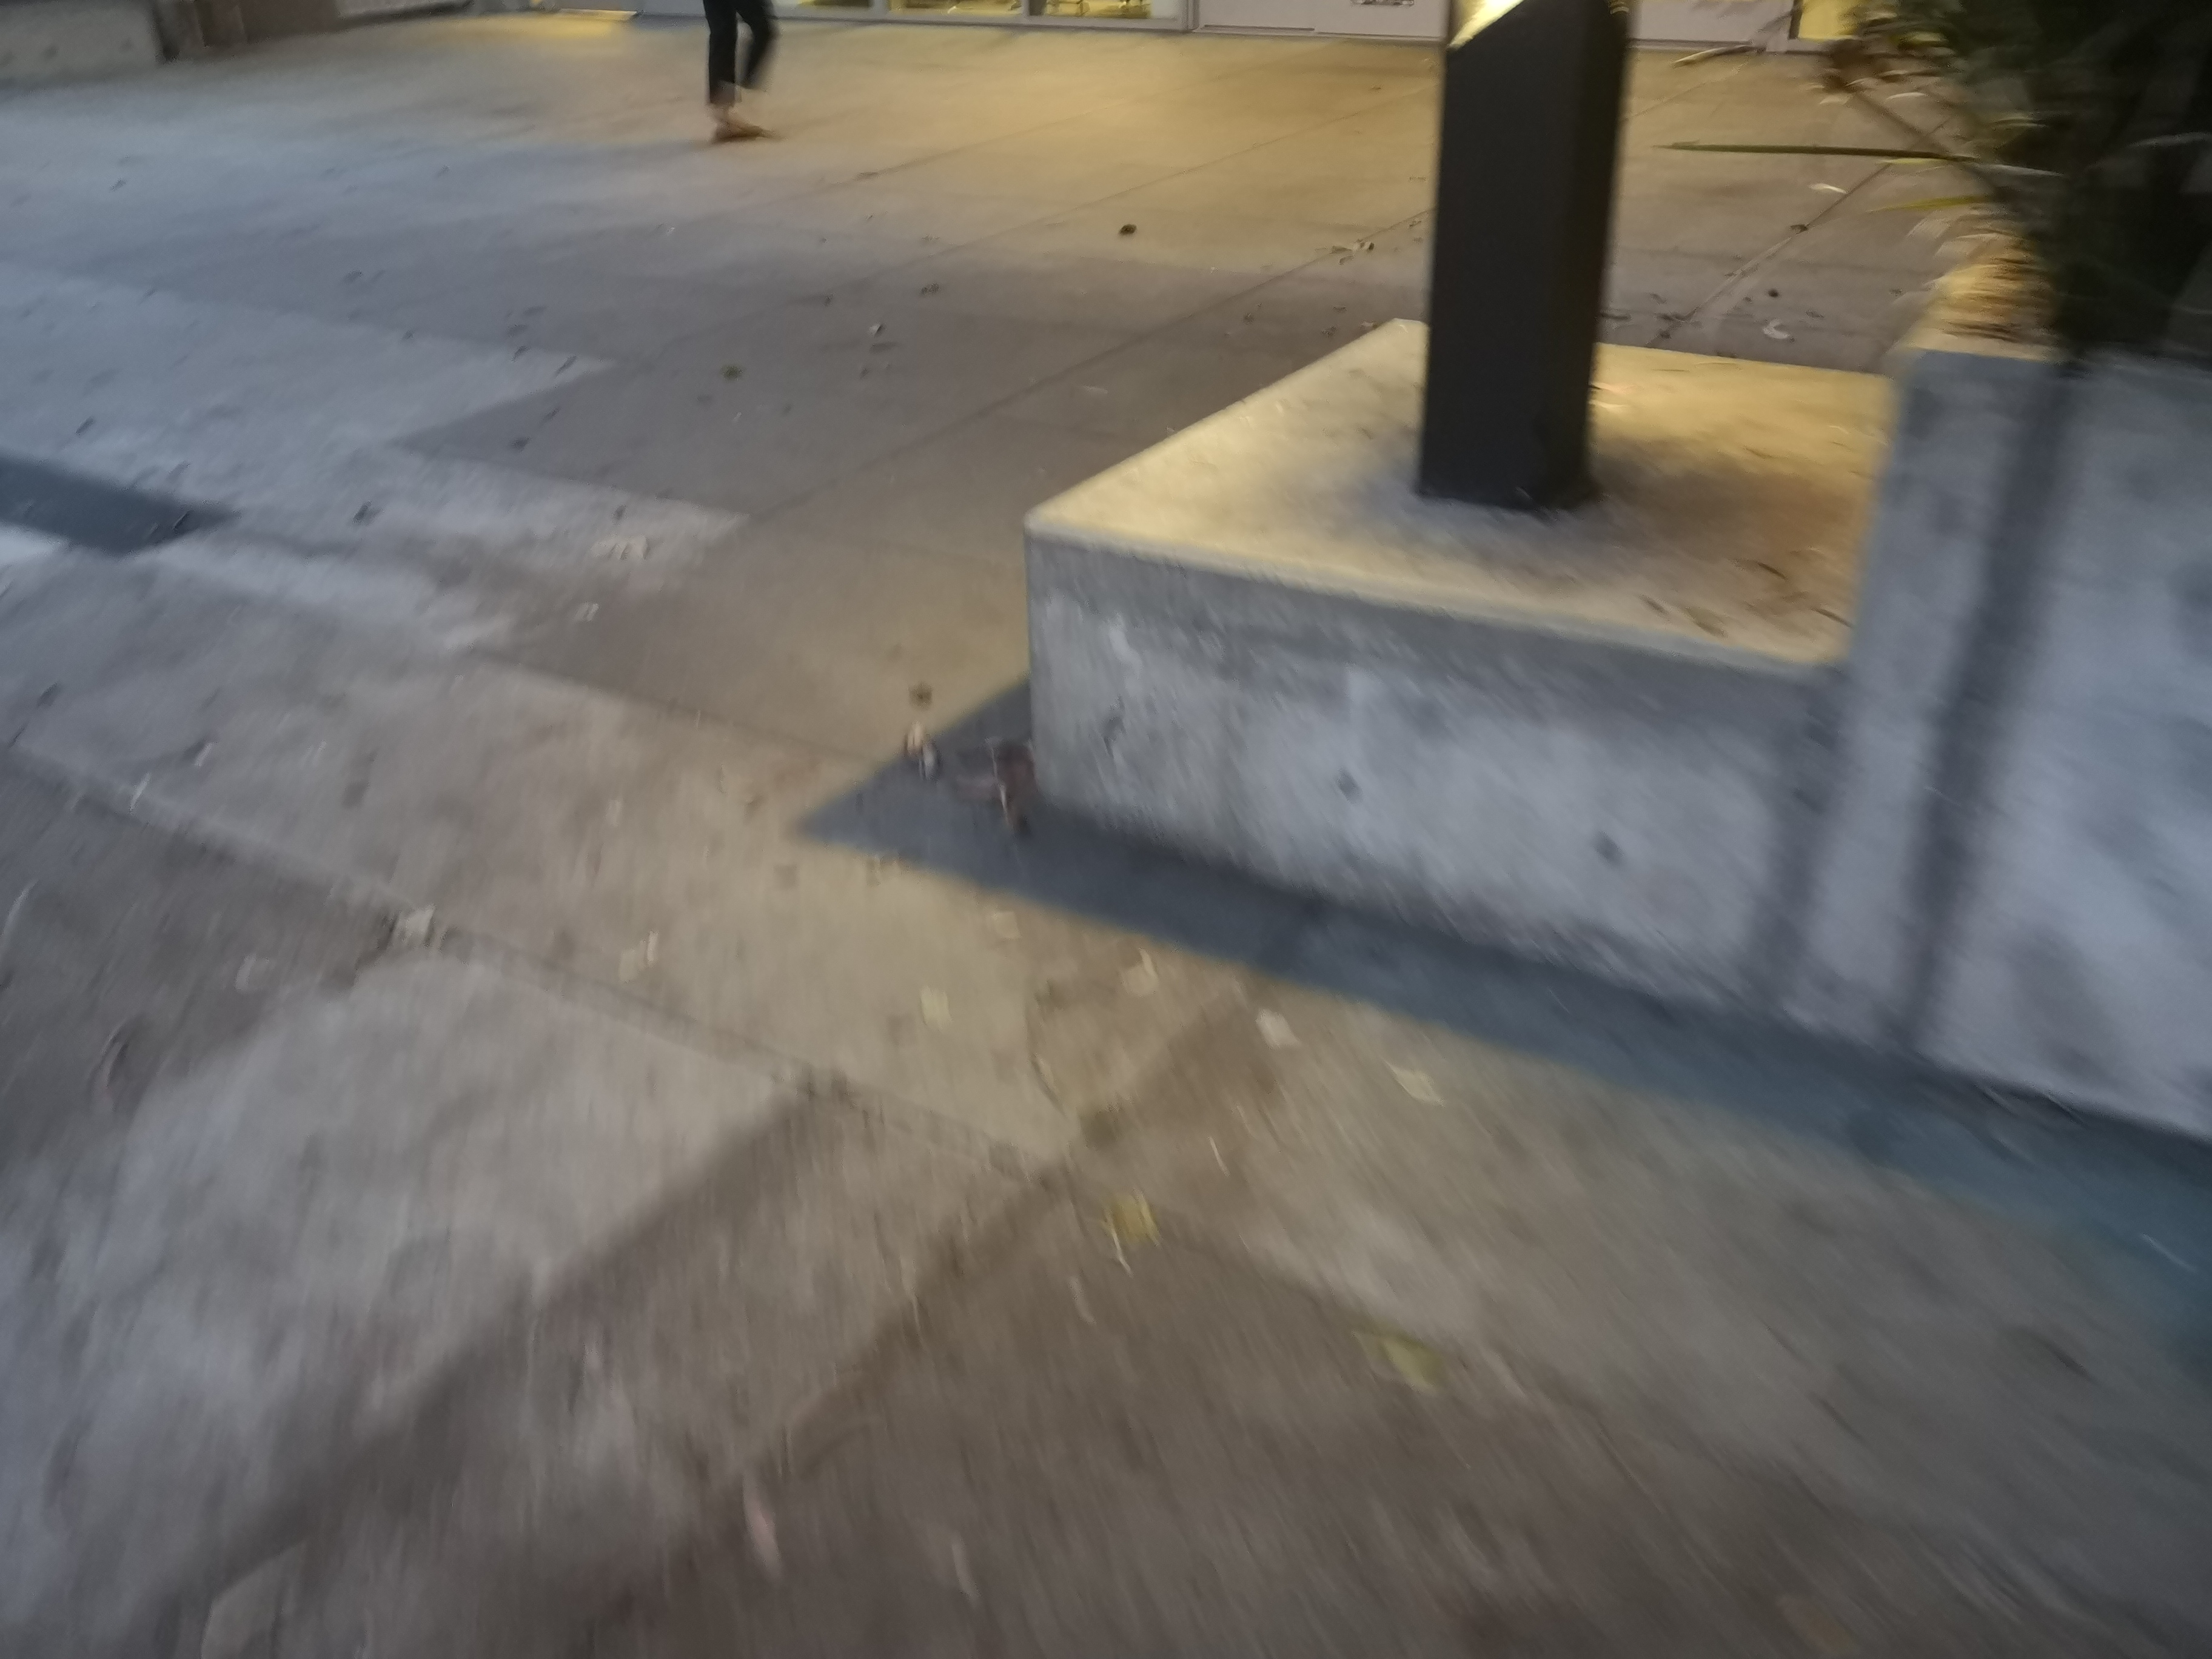Obstacle: (1029, 305, 1886, 1030), (1883, 247, 2207, 1122), (1851, 19, 2209, 340), (1411, 12, 1635, 512), (683, 2, 789, 143)
